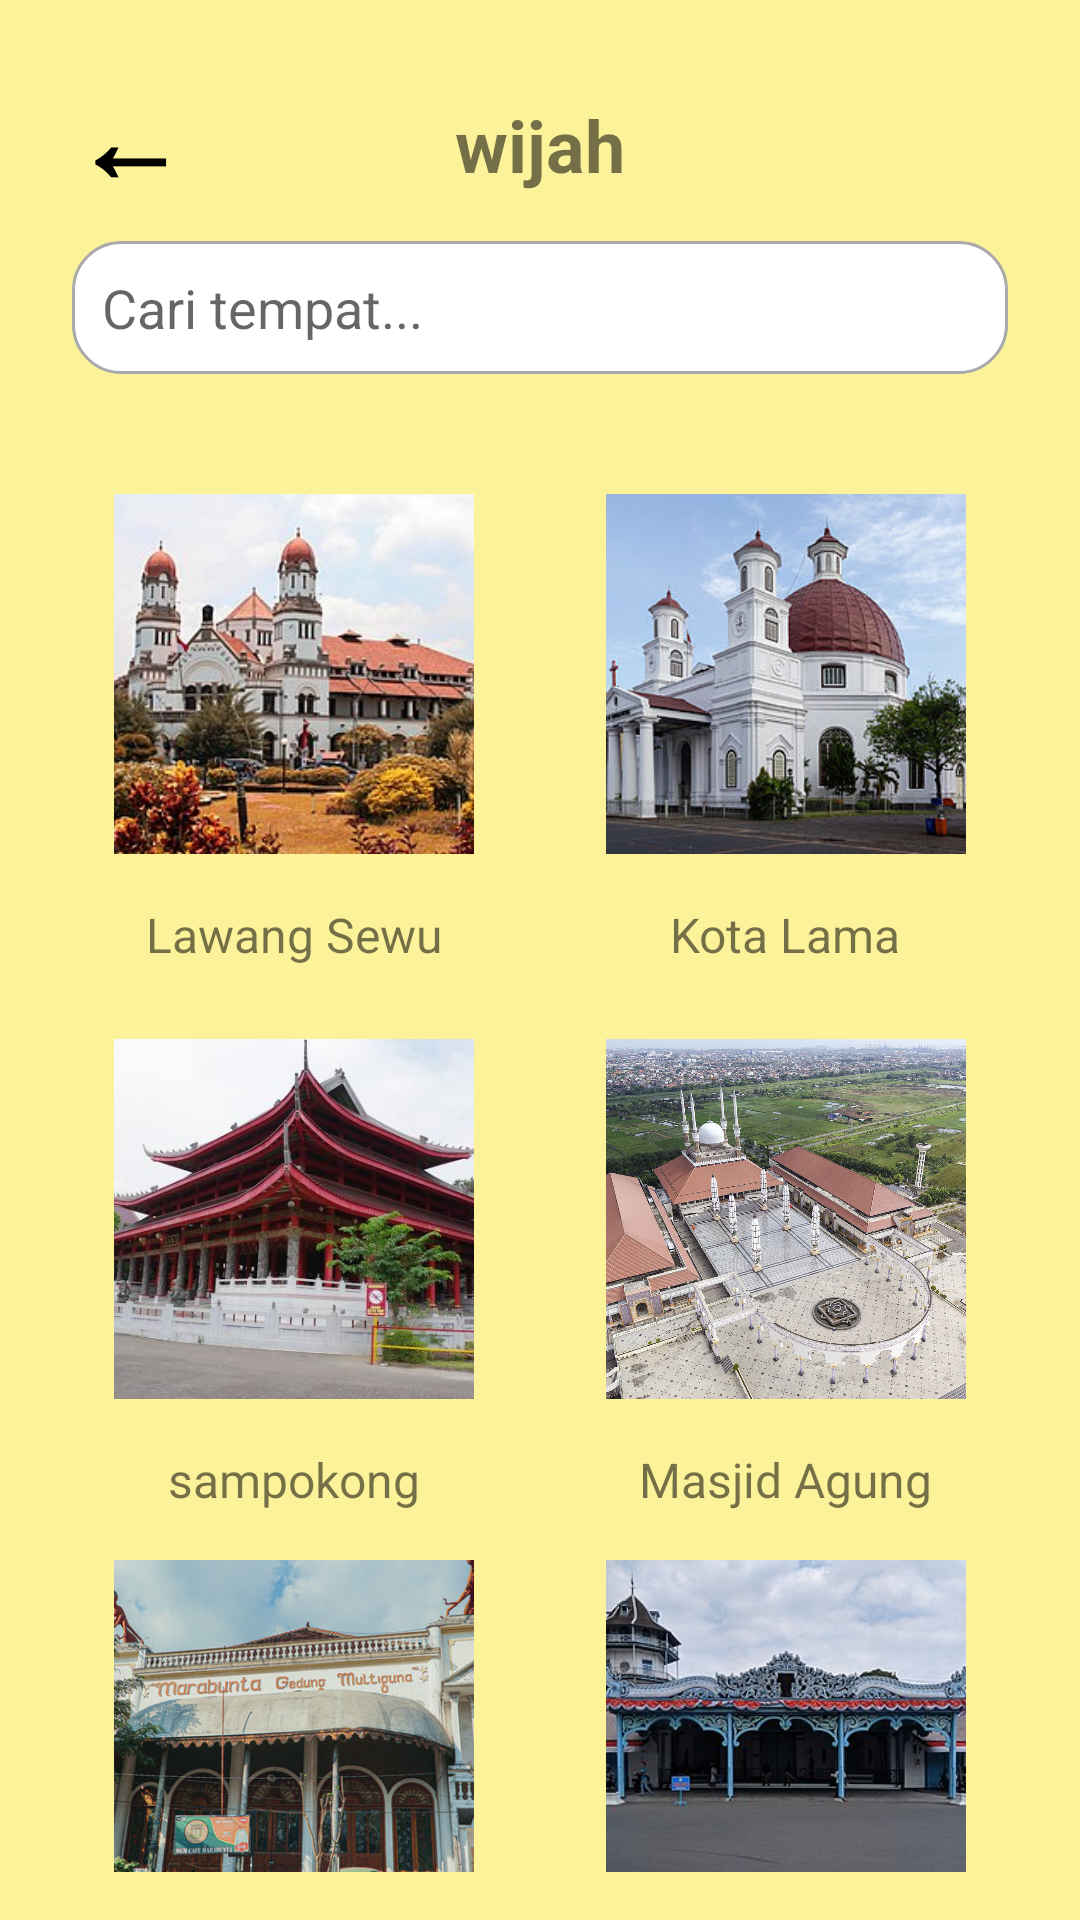

Locate icon controls on the screen. Image size 1080px×1920px, boxes as region(x1, y1, x2, y2).
Photo 3: region(114, 1039, 474, 1399)
Photo 4: region(606, 1039, 966, 1399)
Photo1: region(114, 494, 474, 854)
Photo2: region(606, 494, 966, 854)
